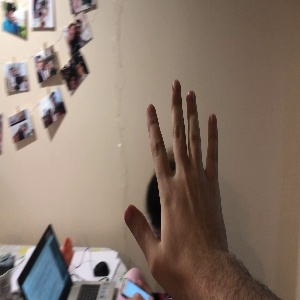hand: (125, 80, 227, 279)
